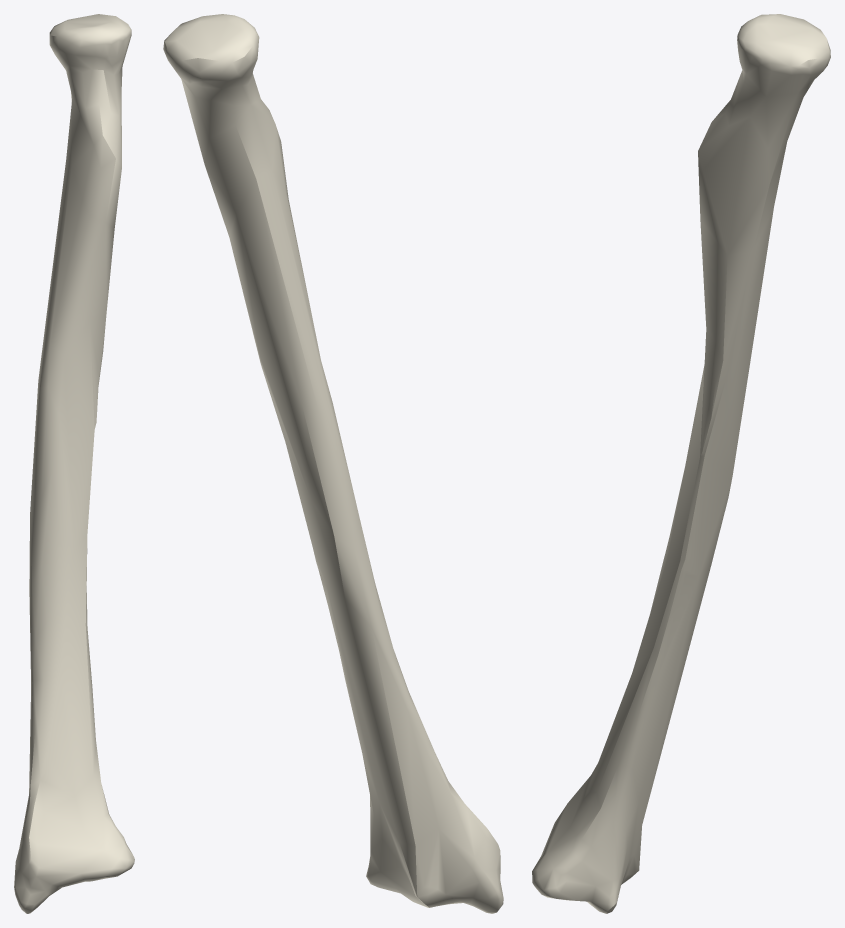
Rendered from fma23464_fj3349.glb.
3 renders of one model, left to right at view 1: azimuth 30°, elevation 25°; view 2: azimuth 150°, elevation 25°; view 3: azimuth 270°, elevation 25°, orthographic. The views are drawn at different scales.
Parts seen in each view (by area): view 1: FMA23464_FJ3349; view 2: FMA23464_FJ3349; view 3: FMA23464_FJ3349.
Part boxes in pixels (bbox=[...]): FMA23464_FJ3349: bbox=[14, 14, 134, 913]; FMA23464_FJ3349: bbox=[163, 14, 503, 913]; FMA23464_FJ3349: bbox=[532, 14, 830, 913].
Size of the model in its own units: 0.0597 by 0.2292 by 0.0658.
